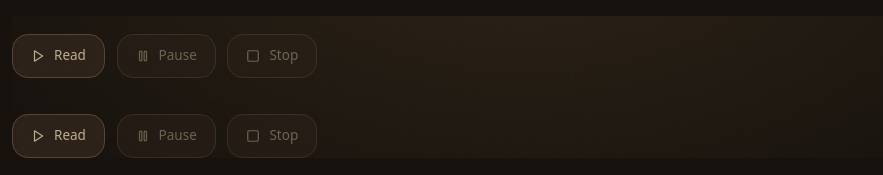
Scenario: audio boundaries › offers only local voices and reconciles another message taking playback
This screenshot has width=883, height=175.
Click the 1st button "Read".
click(58, 56)  # box top-left (12, 34), bottom-right (105, 78)
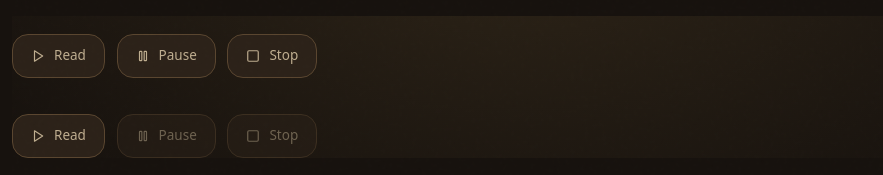
Now the 1st button "Pause" is enabled, box top-left (117, 34), bottom-right (216, 78)
Click the 2nd button "Read".
click(58, 136)  # box top-left (12, 114), bottom-right (105, 158)
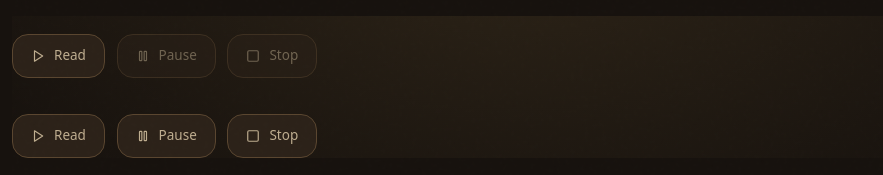
Now the 1st button "Pause" is disabled, box top-left (117, 34), bottom-right (216, 78)
Now the 2nd button "Pause" is enabled, box top-left (117, 114), bottom-right (216, 158)
